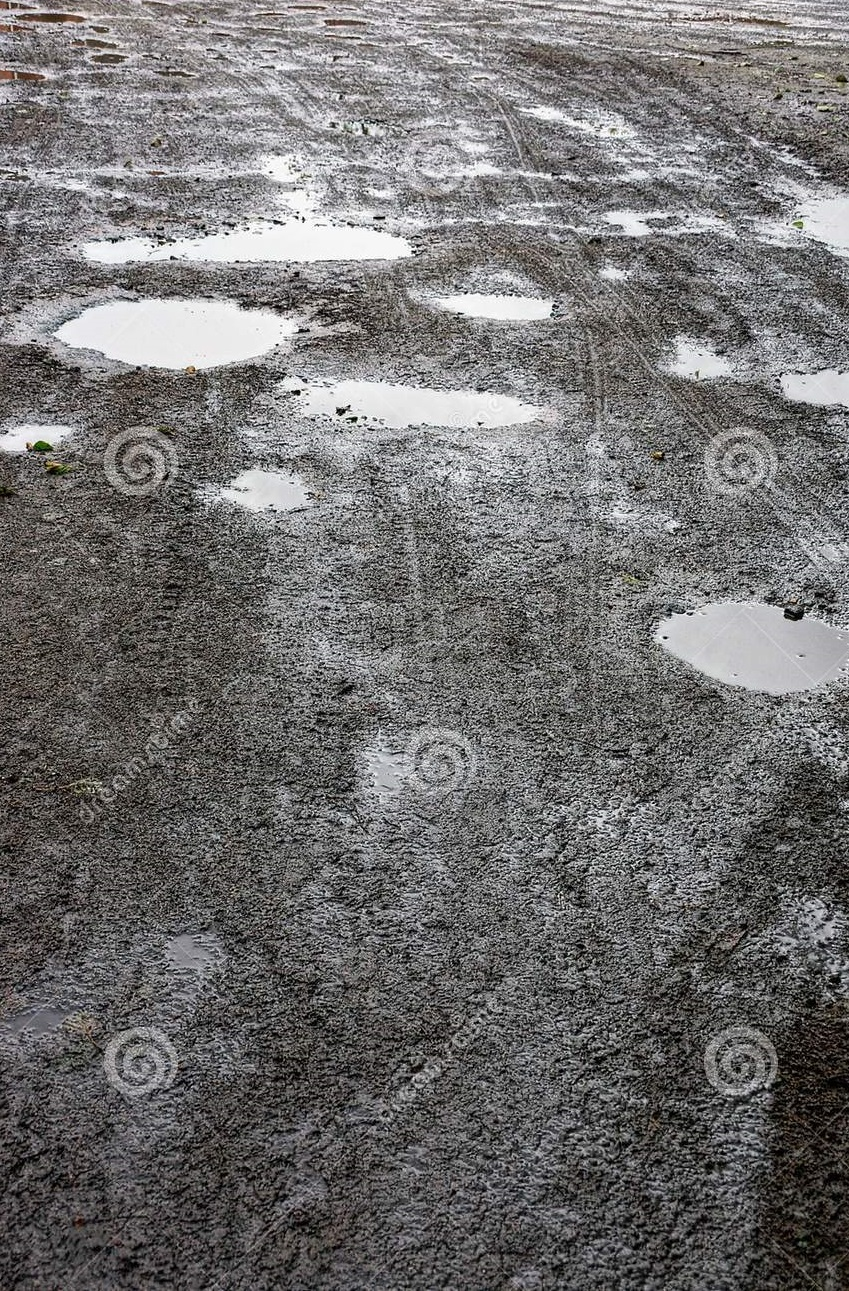potholeGroup: (42, 126, 838, 775)
